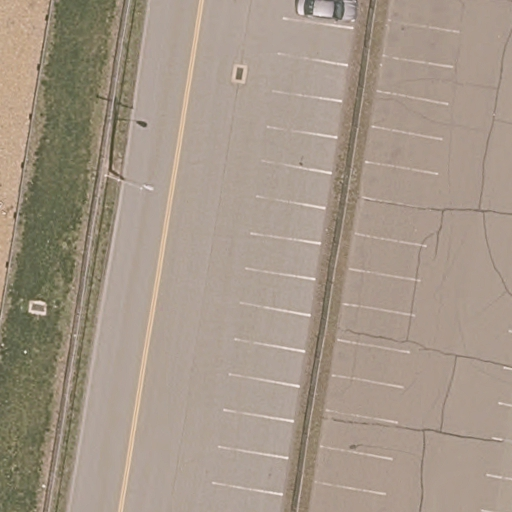DT: (104, 172, 157, 193)
